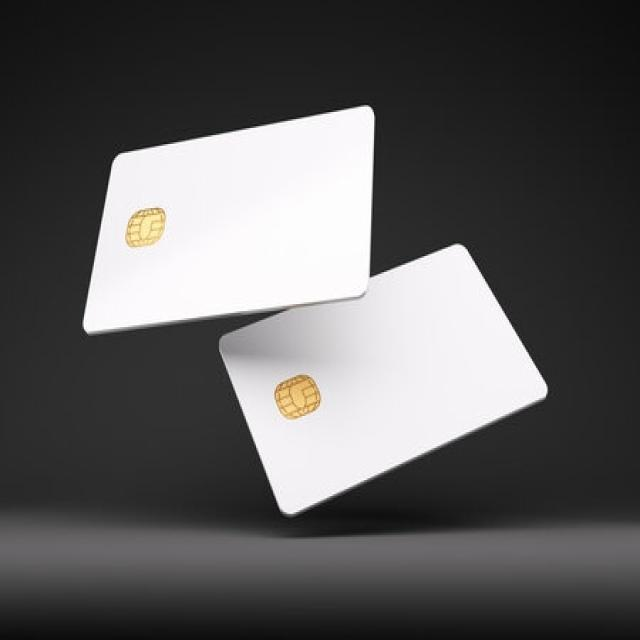payment_card: (217, 241, 548, 518), (81, 103, 376, 336)
